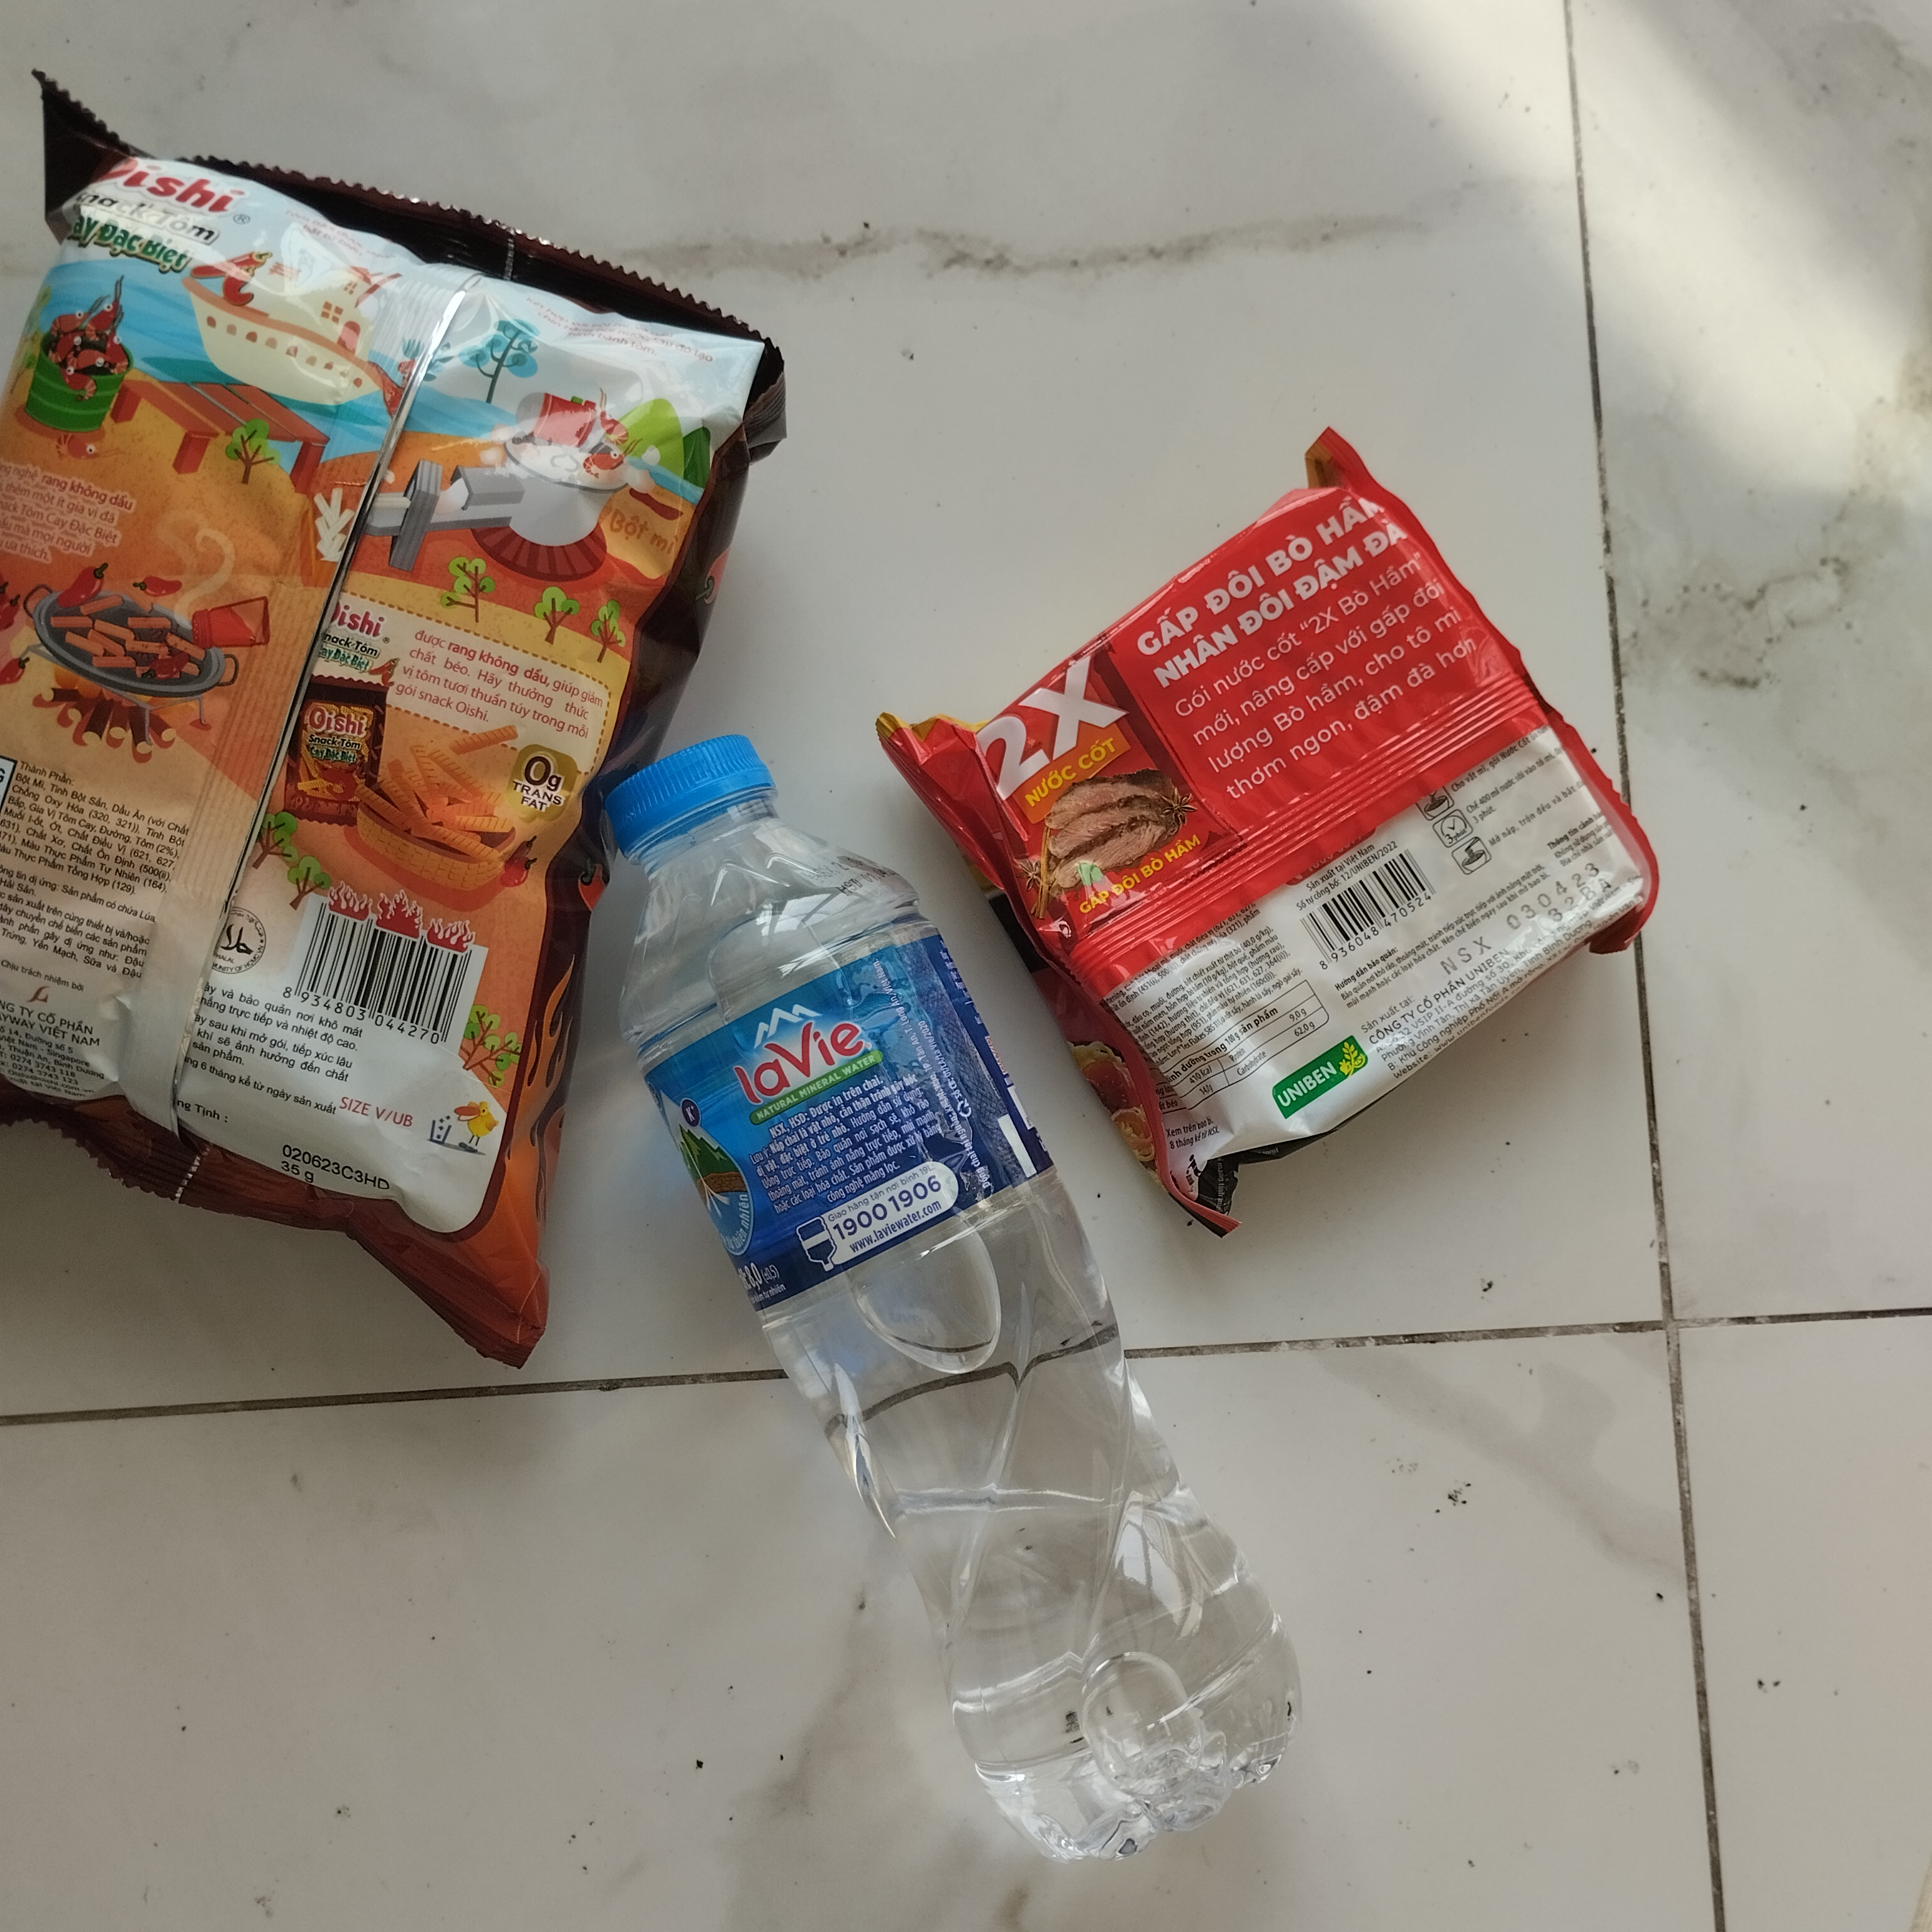3mien: (876, 418, 1684, 1217)
Lavie: (582, 711, 1369, 1893)
Oishi_Cay: (11, 53, 807, 1380)
